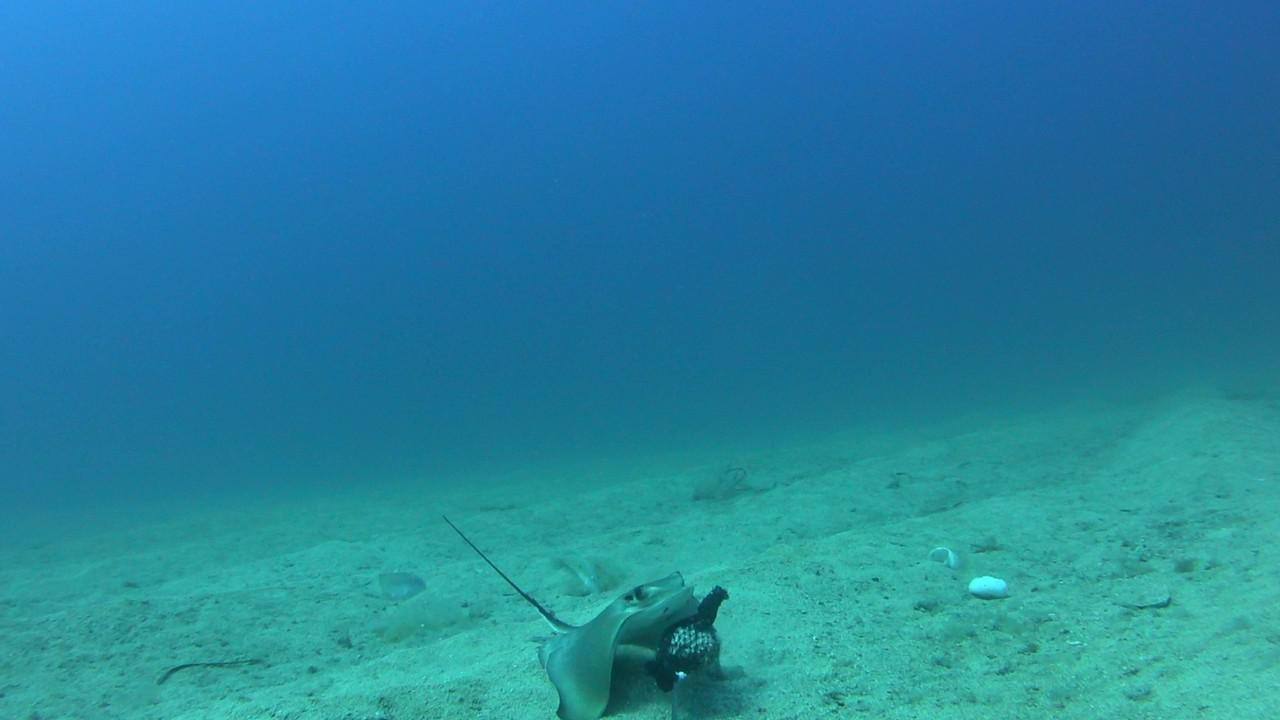myliobatis: (407, 488, 726, 719)
raor: (364, 566, 426, 600)
